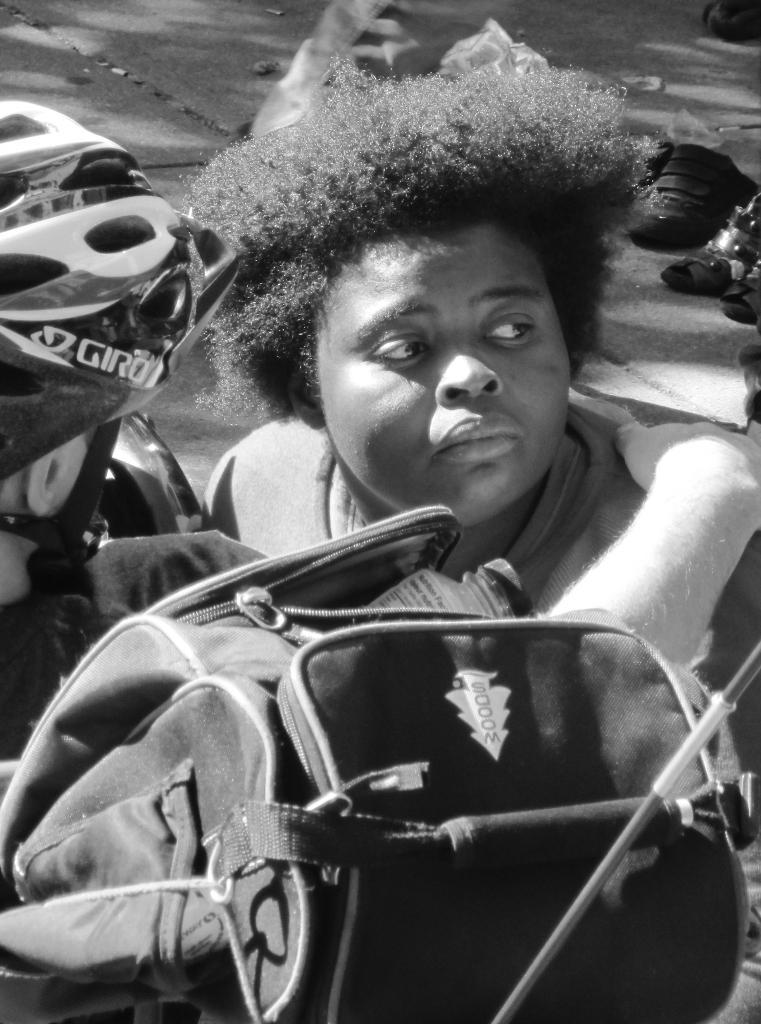Luggage-and-bags: (0, 536, 760, 1023)
